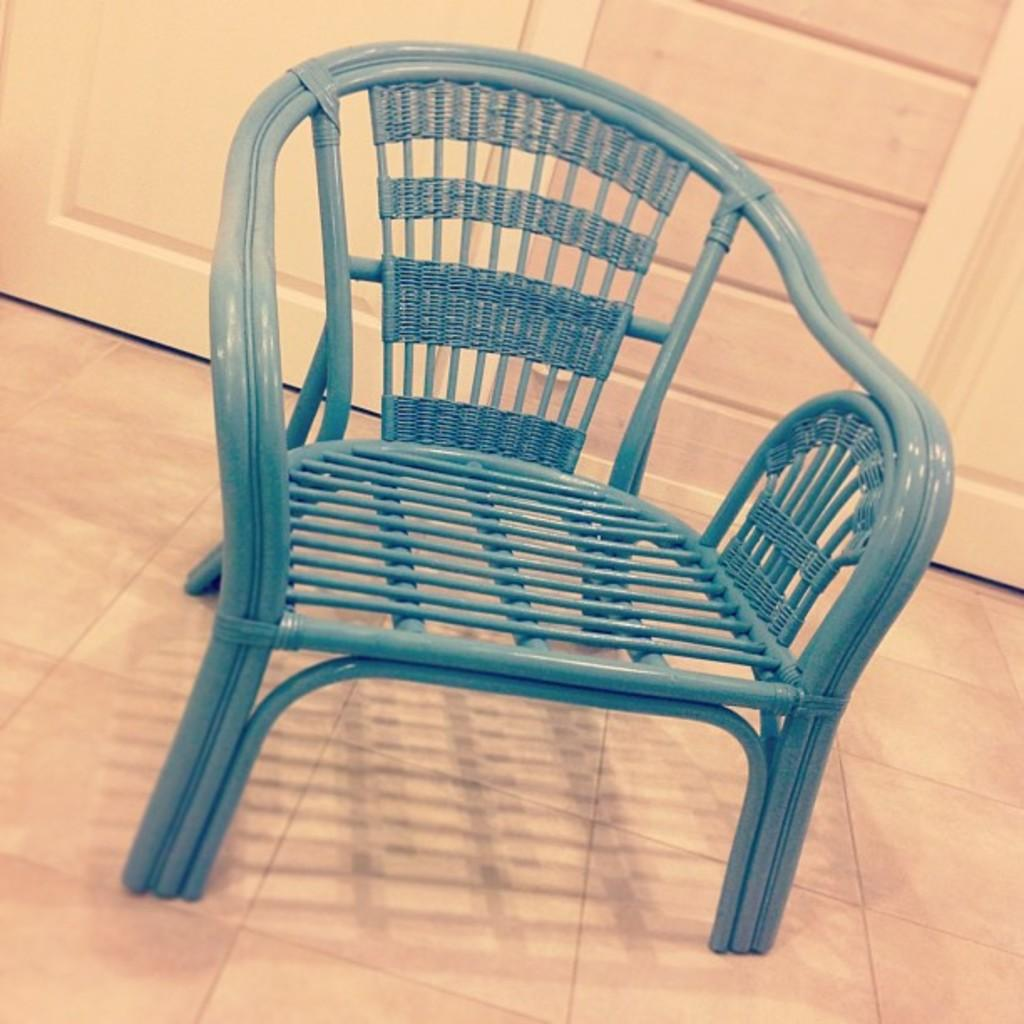Chair: (115, 35, 959, 957)
